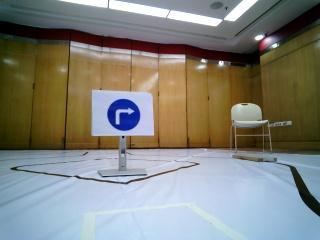right: (95, 91, 152, 136)
